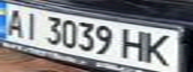0: (57, 17, 78, 50)
3: (39, 13, 63, 46), (75, 20, 96, 53)
9: (93, 23, 118, 57)
A: (0, 6, 30, 38)
H: (118, 27, 151, 63)
I: (18, 9, 45, 42)
K: (139, 29, 181, 68)
